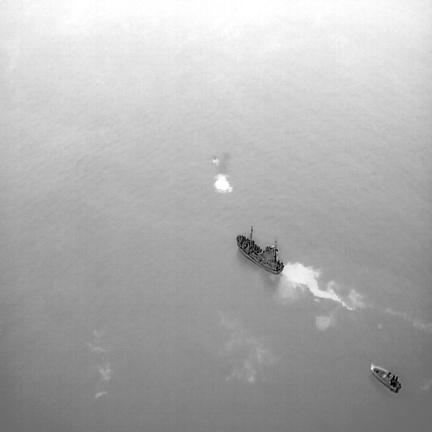flukeprints: (215, 173, 232, 192), (212, 157, 219, 165)
